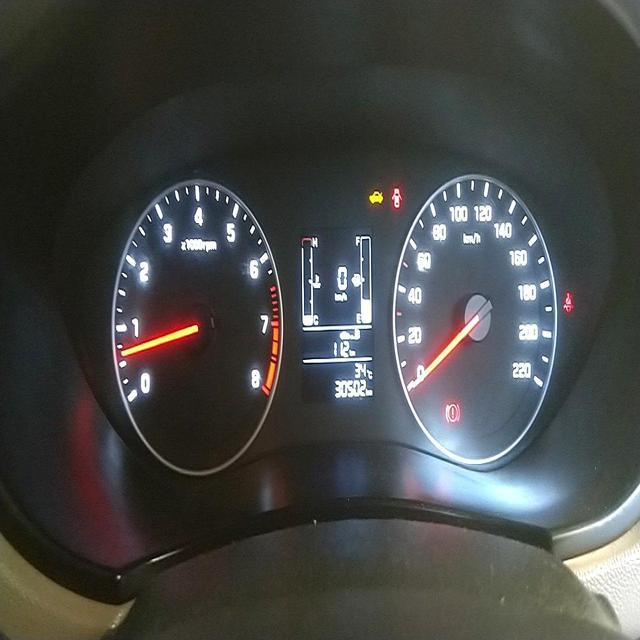odometer: (333, 375, 368, 401)
